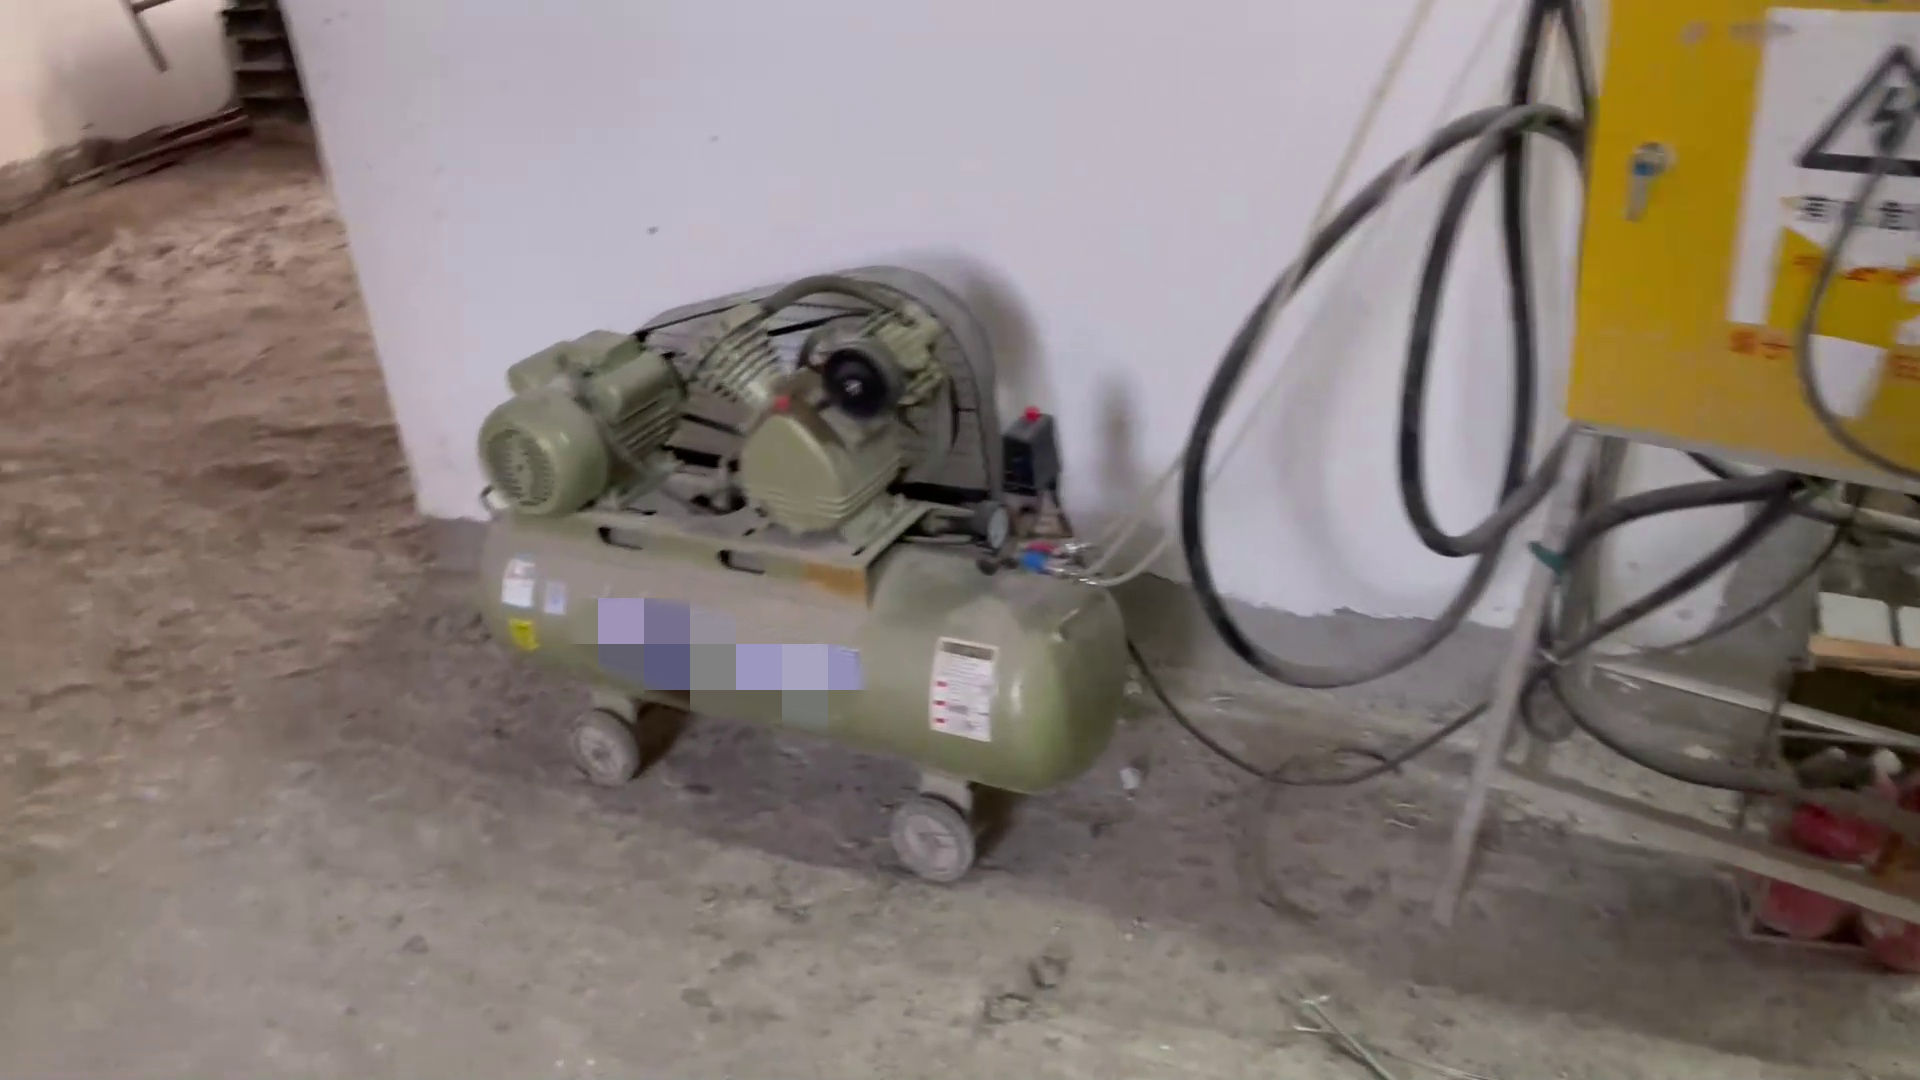ebox: (1412, 5, 1920, 944)
